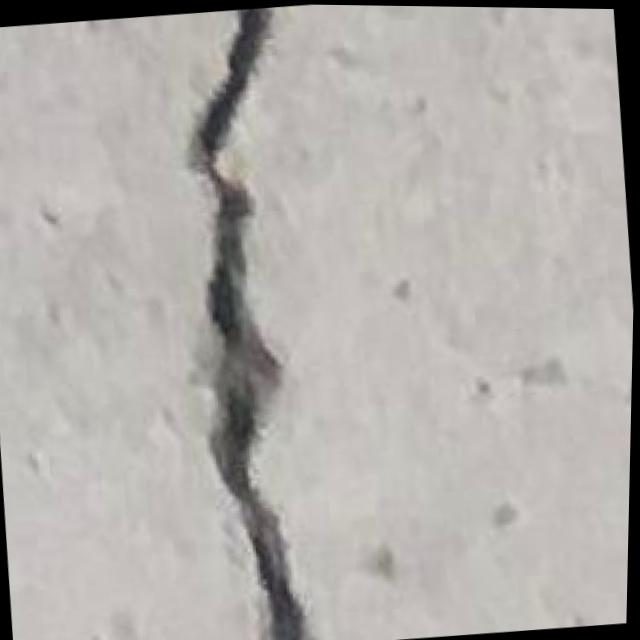Crack: (142, 6, 349, 640)
